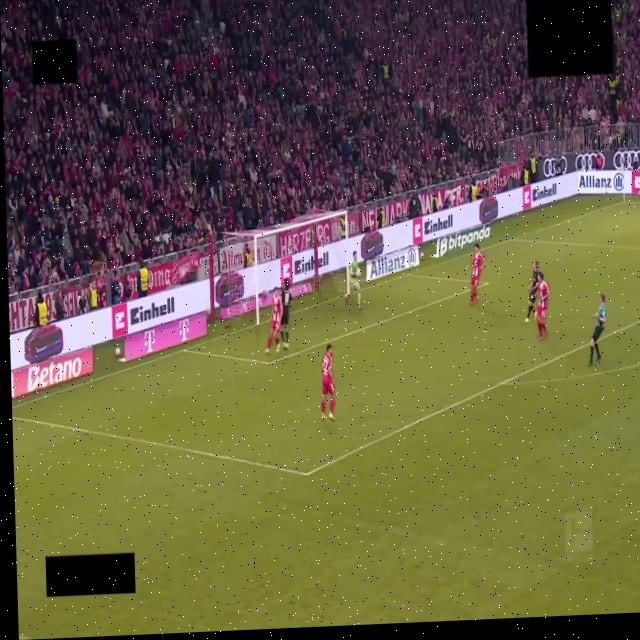ball: (356, 269, 361, 277)
player: (319, 343, 336, 421), (265, 292, 282, 354), (470, 243, 484, 306), (525, 261, 539, 322), (280, 280, 292, 349), (537, 272, 549, 339), (349, 252, 362, 309)
referee: (589, 294, 605, 365)
